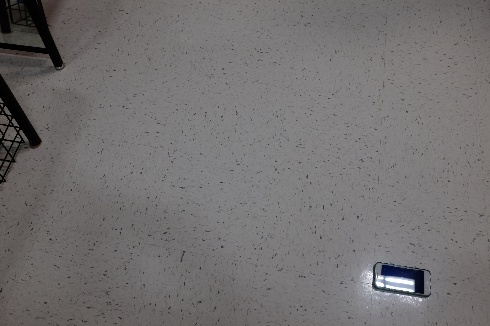phone: (377, 263, 426, 295)
